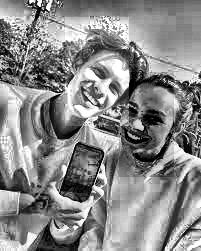happy: (120, 73, 175, 178)
